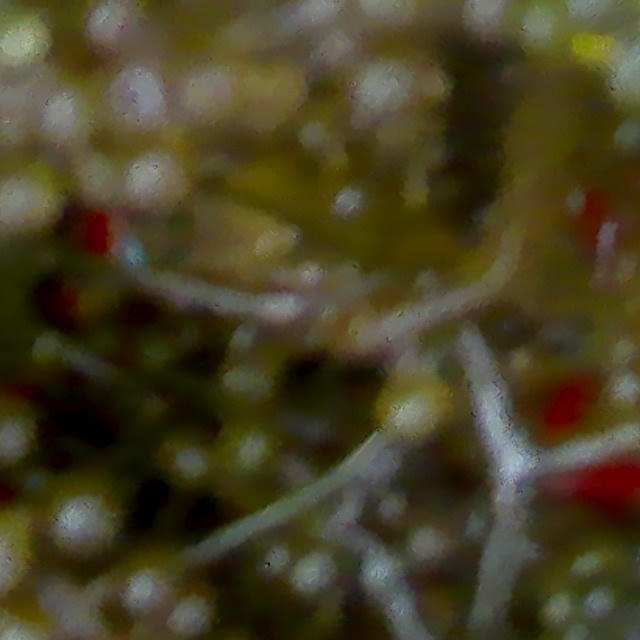SeaGrape: (82, 0, 176, 58), (53, 493, 116, 556)
